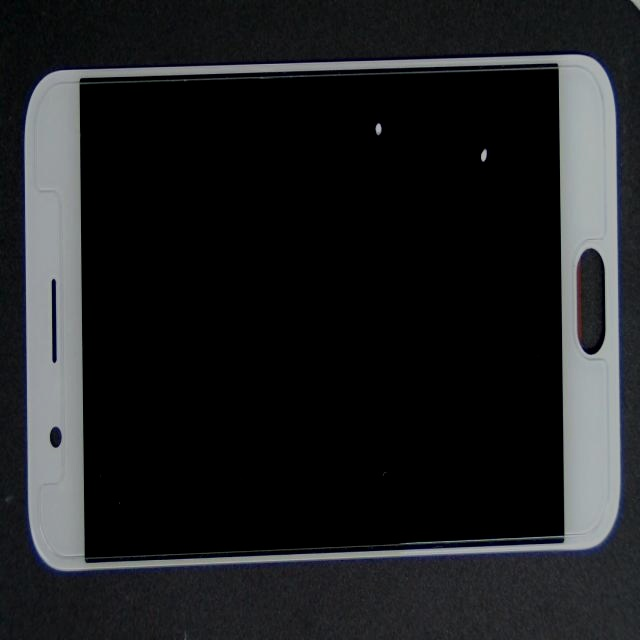stain: (255, 40, 640, 225), (199, 30, 563, 176)
